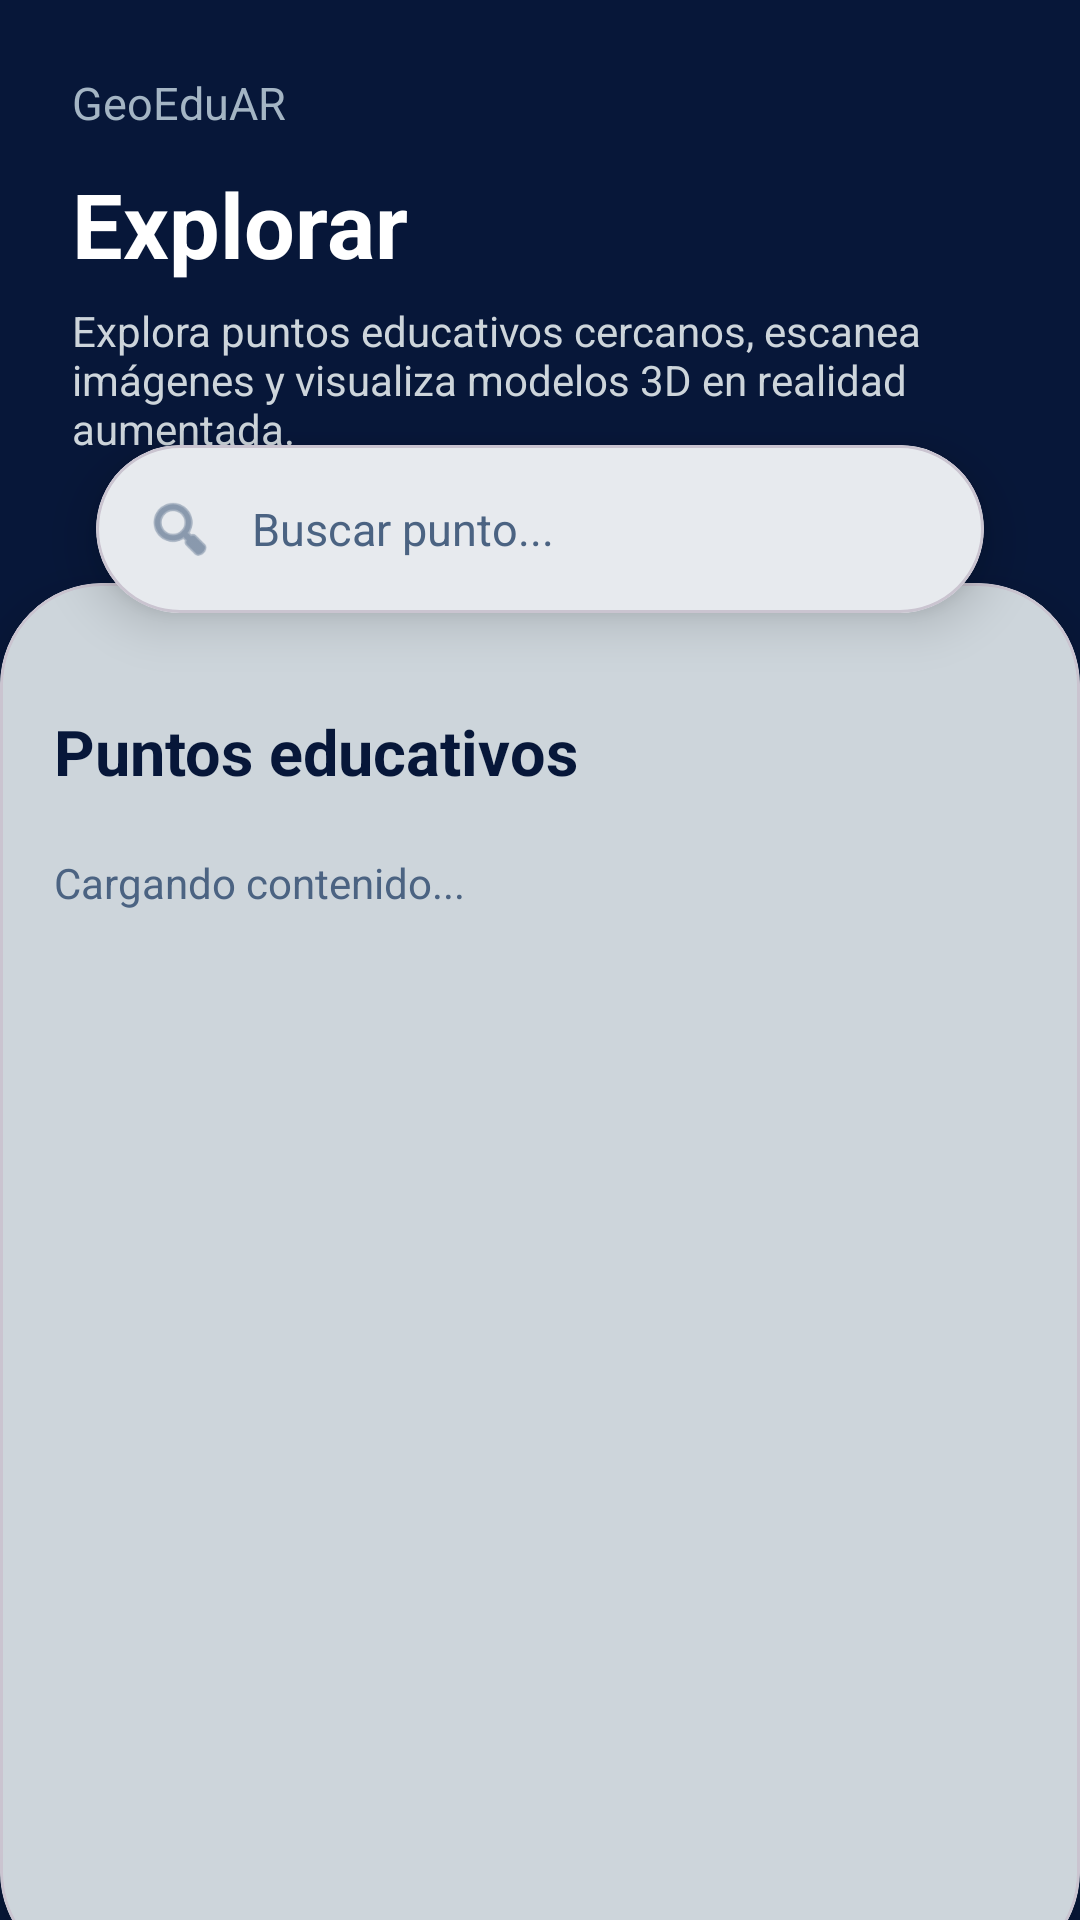

Where to tap for icons on this 1080px x 1920px app screen, as [x,y]:
search: [179,529]
